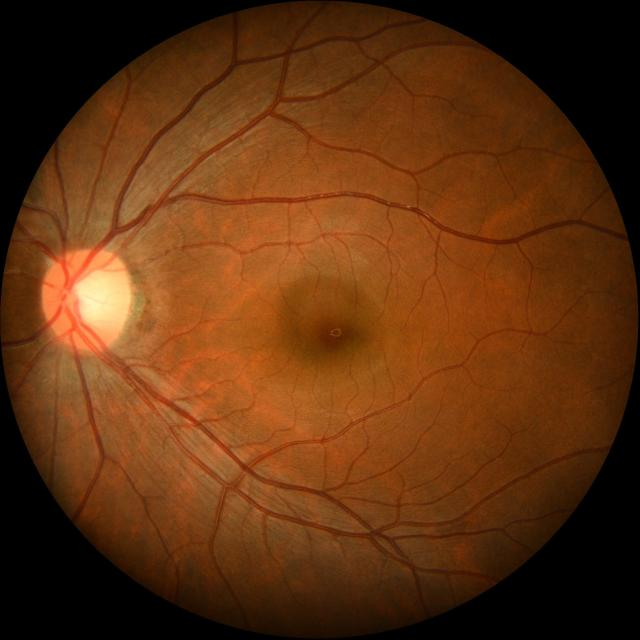OC: (68, 272, 114, 329)
OD: (43, 247, 131, 351)
